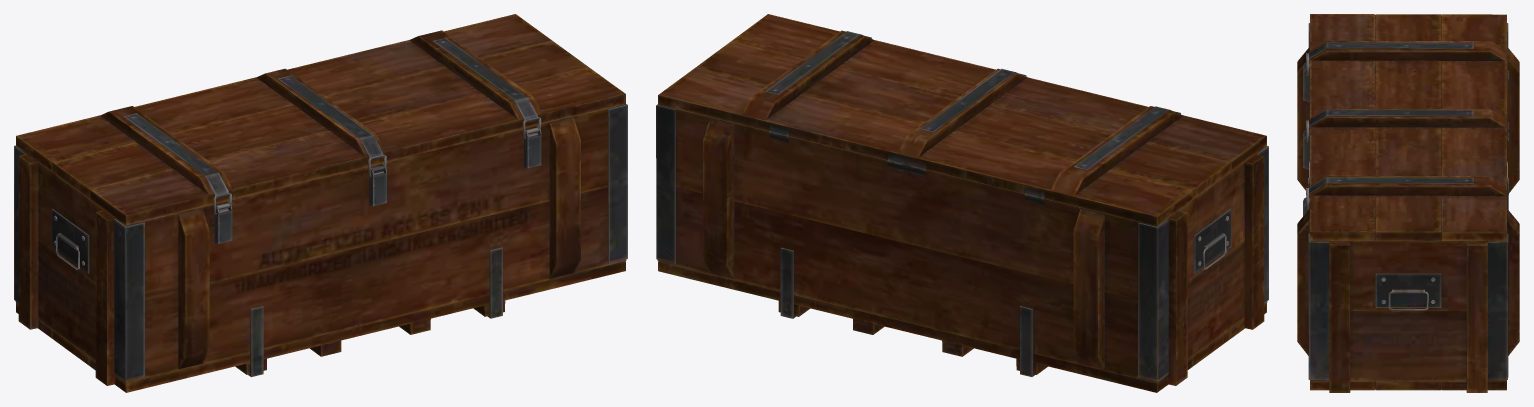
Rendered from wooden_military_crate.glb.
The picture shows the model from 3 angles, left to right: view 1: azimuth 30°, elevation 25°; view 2: azimuth 150°, elevation 25°; view 3: azimuth 270°, elevation 25°; orthographic projection. The views are drawn at different scales.
Visible parts, largest first — view 1: wooden_military_crate, wooden_military_crate_lid; view 2: wooden_military_crate, wooden_military_crate_lid; view 3: wooden_military_crate_lid, wooden_military_crate.
Part boxes in pixels (x1=…): wooden_military_crate: x1=14, y1=103, x2=627, y2=392; wooden_military_crate_lid: x1=16, y1=14, x2=625, y2=225; wooden_military_crate: x1=656, y1=104, x2=1268, y2=392; wooden_military_crate_lid: x1=658, y1=14, x2=1266, y2=225; wooden_military_crate_lid: x1=1306, y1=14, x2=1509, y2=240; wooden_military_crate: x1=1297, y1=23, x2=1519, y2=392.
Size of the model in its own units: 1.24 by 0.4645 by 0.5174.
Materials: 1 (1 with a texture image).
